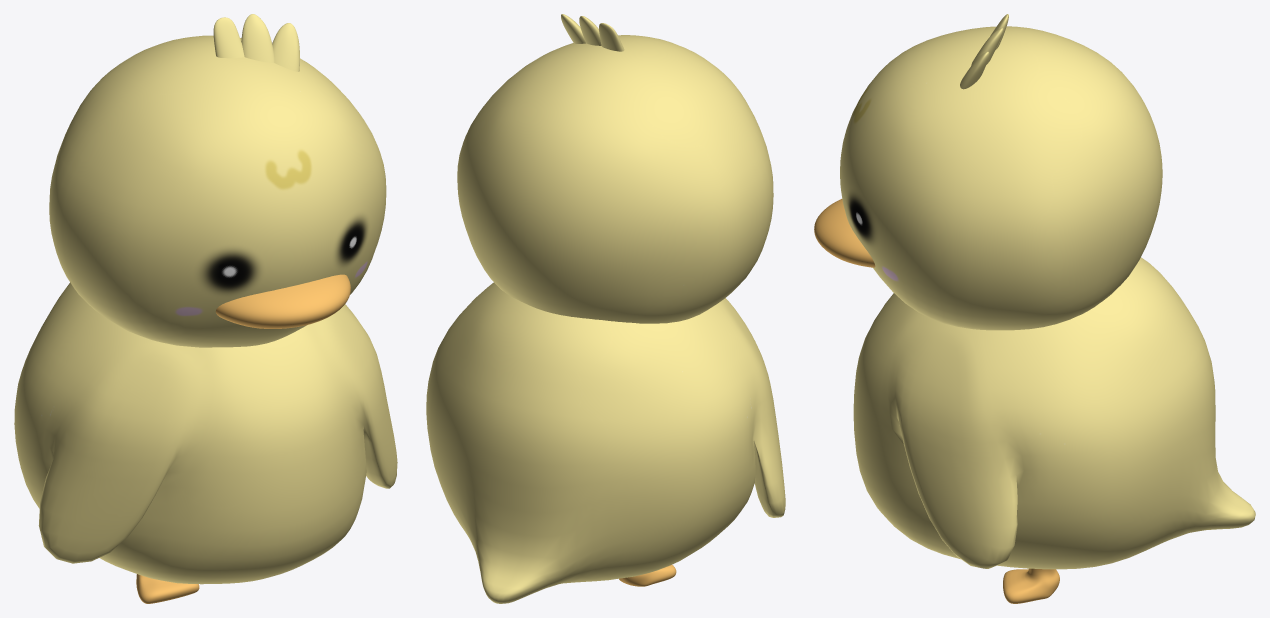
The model's file is duckling2.fbx.
3 renders of one model, left to right at view 1: azimuth 30°, elevation 25°; view 2: azimuth 150°, elevation 25°; view 3: azimuth 270°, elevation 25°, orthographic. The views are drawn at different scales.
Parts seen in each view (by area): view 1: ducklingbody.004, ducklinghead.004, ducklingbeak.003, duckling tuft.003, ducking rightfoot.004; view 2: ducklingbody.004, ducklinghead.004, duckling tuft.003, ducking rightfoot.004; view 3: ducklingbody.004, ducklinghead.004, ducklingbeak.003, ducklingleftfoot.004, duckling tuft.003.
Part boxes in pixels (x1,y1,x2,y2): ducklingbody.004: (14, 282, 397, 584); ducklinghead.004: (49, 35, 386, 347); ducklingbeak.003: (215, 274, 350, 328); duckling tuft.003: (213, 14, 299, 71); ducking rightfoot.004: (136, 574, 199, 603); ducklingbody.004: (426, 282, 785, 603); ducklinghead.004: (457, 35, 773, 323); duckling tuft.003: (561, 14, 624, 51); ducking rightfoot.004: (619, 565, 676, 586); ducklingbody.004: (853, 257, 1255, 569); ducklinghead.004: (840, 26, 1162, 330); ducklingbeak.003: (814, 199, 875, 267); ducklingleftfoot.004: (1003, 568, 1059, 603); duckling tuft.003: (960, 14, 1008, 89).
Bounding box in the file's own units: 49.7 × 77.64 × 55.65.
3 materials, 1 textured.
